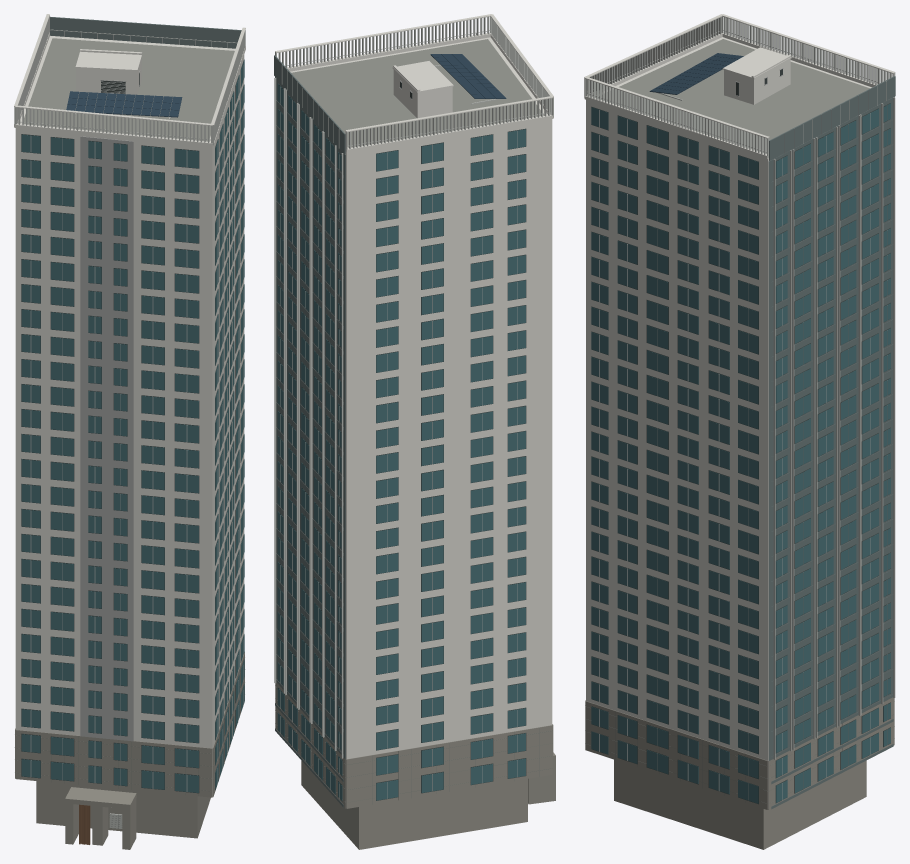
File: bespoke-maple-xi-208-corrected.glb
3 renders of one model, left to right at view 1: azimuth 30°, elevation 25°; view 2: azimuth 150°, elevation 25°; view 3: azimuth 270°, elevation 25°, orthographic.
Parts seen in each view (by area): view 1: 208_e0_window_glass, 208_wing_0_observed_massing, 208_e3_paint_zone_warm, 208_e0_individually_sized_reveals, 208_208_deep_recessed_lobby_mass, 208_wing_0_roof_rail, 208_wing_0_service_roof, 208_e1_paint_zone_graphite, 208_individual_roof_panel_array_0, 208_e0_stone_vertical_joints, 208_208_entry_brown_vertical_slats; view 2: 208_wing_0_observed_massing, 208_e0_window_glass, 208_wing_0_roof_rail, 208_e1_paint_zone_graphite, 208_208_deep_recessed_lobby_mass, 208_wing_0_service_roof, 208_e0_individually_sized_reveals, 208_individual_roof_panel_array_0, 208_e0_stone_vertical_joints; view 3: 208_e0_window_glass, 208_wing_0_observed_massing, 208_e1_paint_zone_graphite, 208_wing_0_roof_rail, 208_e0_individually_sized_reveals, 208_208_deep_recessed_lobby_mass, 208_wing_0_service_roof, 208_individual_roof_panel_array_0.
Part boxes in pixels (x1=…): 208_e0_window_glass: x1=21, y1=60, x2=244, y2=792; 208_wing_0_observed_massing: x1=14, y1=14, x2=245, y2=807; 208_e3_paint_zone_warm: x1=80, y1=71, x2=140, y2=741; 208_e0_individually_sized_reveals: x1=21, y1=59, x2=244, y2=793; 208_208_deep_recessed_lobby_mass: x1=15, y1=652, x2=244, y2=849; 208_wing_0_roof_rail: x1=14, y1=16, x2=245, y2=828; 208_wing_0_service_roof: x1=24, y1=38, x2=234, y2=141; 208_e1_paint_zone_graphite: x1=50, y1=16, x2=241, y2=48; 208_individual_roof_panel_array_0: x1=66, y1=91, x2=182, y2=117; 208_e0_stone_vertical_joints: x1=14, y1=669, x2=245, y2=829; 208_208_entry_brown_vertical_slats: x1=79, y1=804, x2=90, y2=844; 208_wing_0_observed_massing: x1=275, y1=14, x2=553, y2=808; 208_e0_window_glass: x1=277, y1=84, x2=525, y2=800; 208_wing_0_roof_rail: x1=274, y1=16, x2=553, y2=798; 208_e1_paint_zone_graphite: x1=274, y1=55, x2=345, y2=807; 208_208_deep_recessed_lobby_mass: x1=275, y1=682, x2=555, y2=849; 208_wing_0_service_roof: x1=291, y1=39, x2=544, y2=147; 208_e0_individually_sized_reveals: x1=278, y1=82, x2=526, y2=801; 208_individual_roof_panel_array_0: x1=430, y1=54, x2=506, y2=98; 208_e0_stone_vertical_joints: x1=275, y1=686, x2=552, y2=804; 208_e0_window_glass: x1=591, y1=103, x2=890, y2=803; 208_wing_0_observed_massing: x1=584, y1=14, x2=895, y2=809; 208_e1_paint_zone_graphite: x1=768, y1=76, x2=895, y2=809; 208_wing_0_roof_rail: x1=584, y1=16, x2=895, y2=800; 208_e0_individually_sized_reveals: x1=591, y1=69, x2=890, y2=804; 208_208_deep_recessed_lobby_mass: x1=585, y1=697, x2=894, y2=849; 208_wing_0_service_roof: x1=596, y1=39, x2=869, y2=153; 208_individual_roof_panel_array_0: x1=649, y1=53, x2=743, y2=94.
Size of the model in its own units: 34.19 by 94.04 by 36.28.
